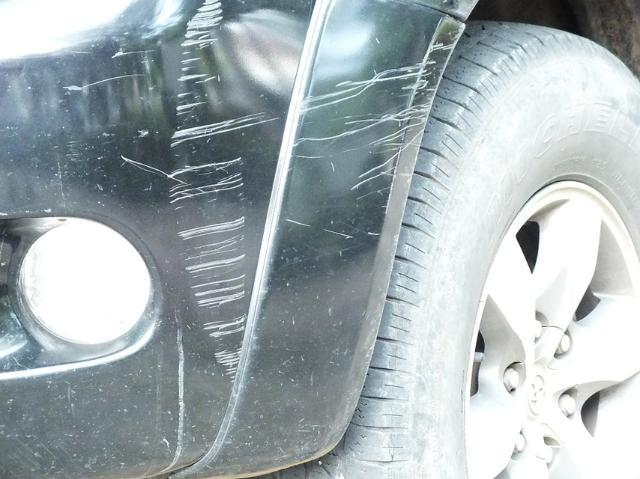Bumper: (115, 6, 450, 402)
